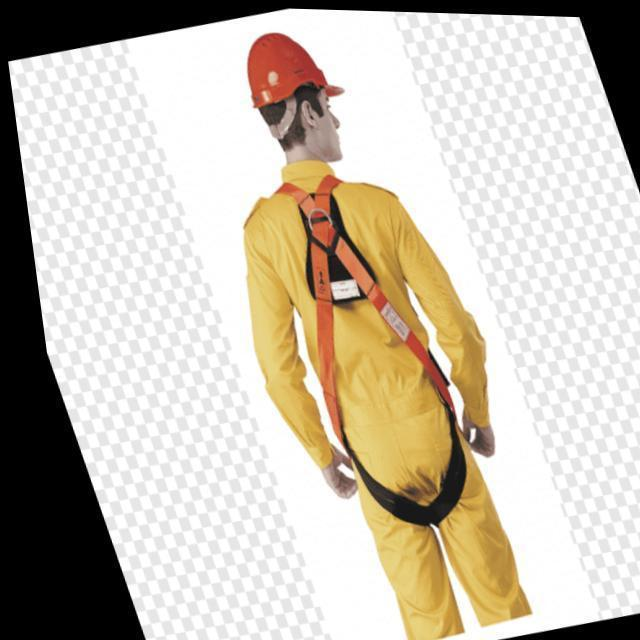safety belt: (233, 188, 507, 533)
